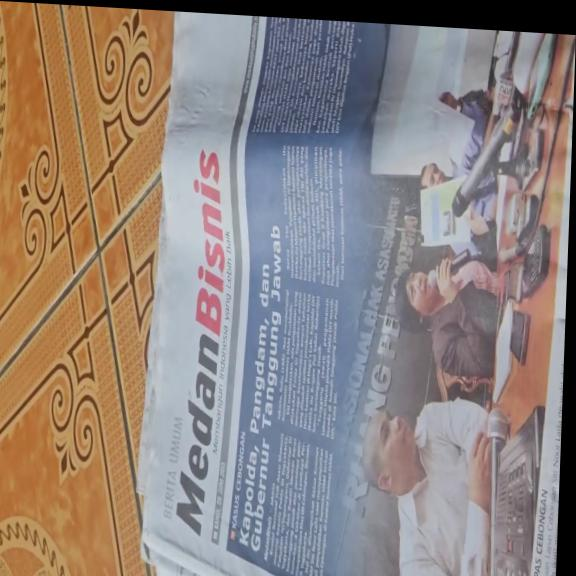Kertas: (161, 11, 342, 562)
